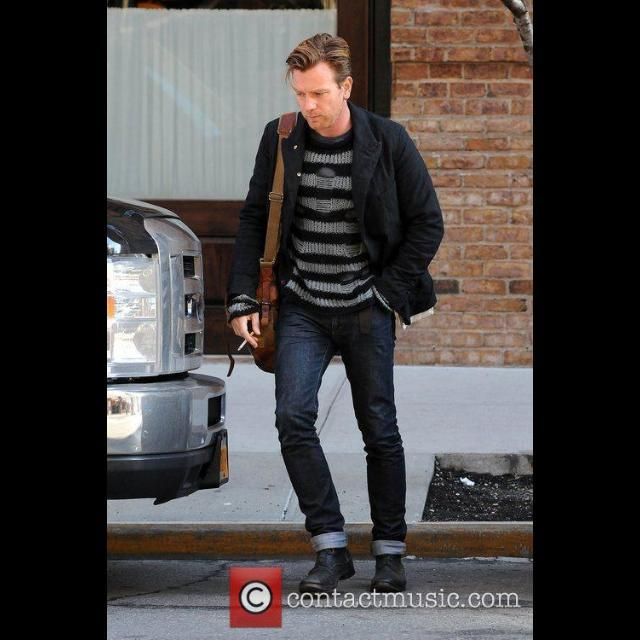rokok: (237, 329, 257, 351)
